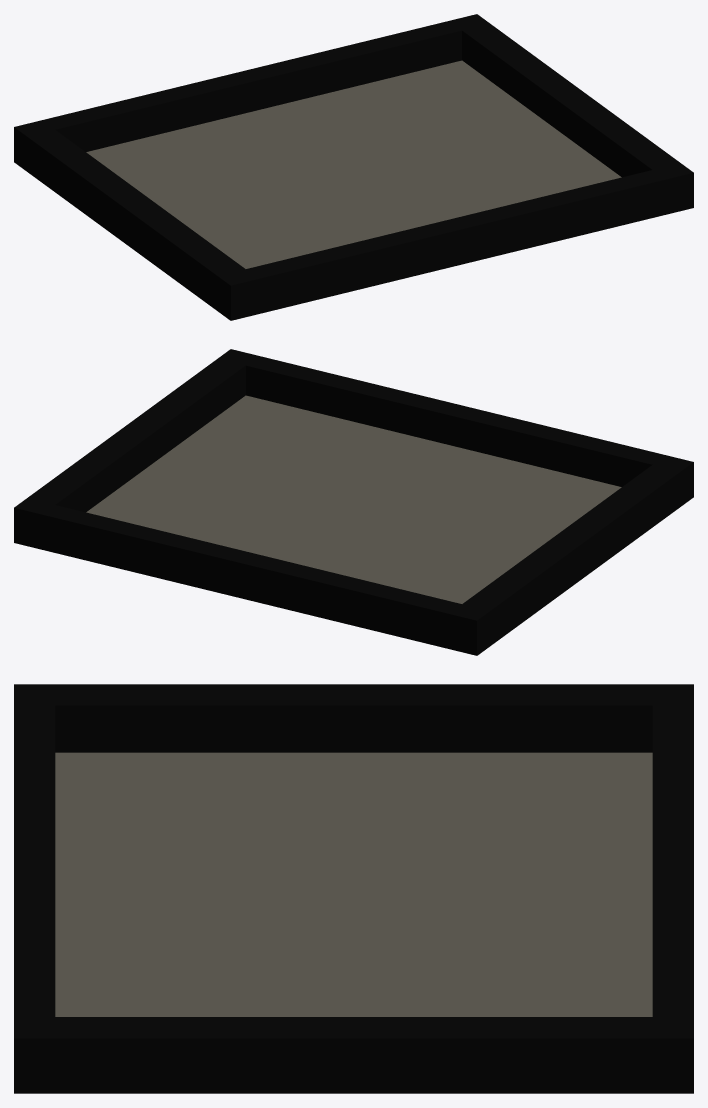
Rendered from CityBuildingD_03_roof.fbx.
The picture shows the model from 3 angles, top to bottom: view 1: azimuth 30°, elevation 25°; view 2: azimuth 150°, elevation 25°; view 3: azimuth 270°, elevation 25°; orthographic projection. The views are drawn at different scales.
Visible parts, largest first — view 1: CityBuildingD_03_roof; view 2: CityBuildingD_03_roof; view 3: CityBuildingD_03_roof.
Part boxes in pixels (x1=…): CityBuildingD_03_roof: x1=14, y1=14, x2=693, y2=320; CityBuildingD_03_roof: x1=14, y1=349, x2=693, y2=655; CityBuildingD_03_roof: x1=14, y1=684, x2=693, y2=1093.
Bounding box in the file's own units: 0.6706 × 0.0487 × 0.5438.
